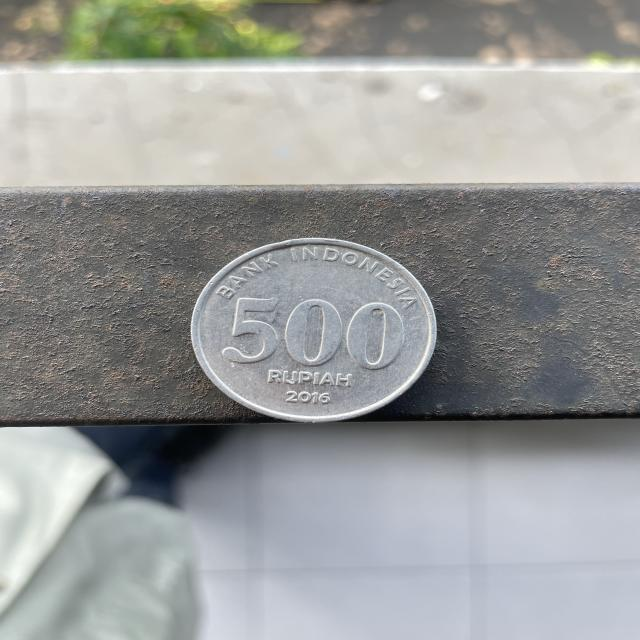500-silver: (189, 236, 449, 432)
